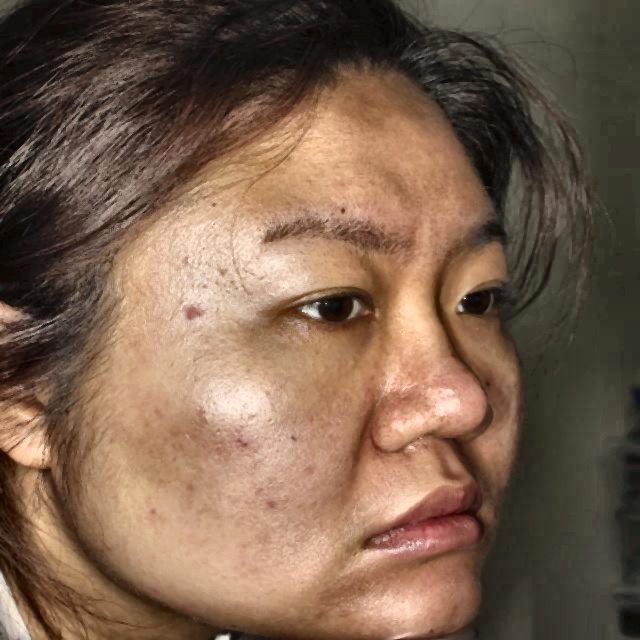comedone: (178, 302, 204, 333)
